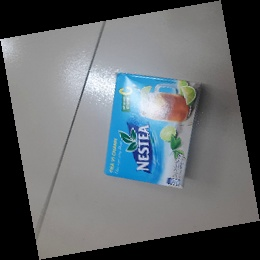Nestea: (101, 70, 202, 190)
